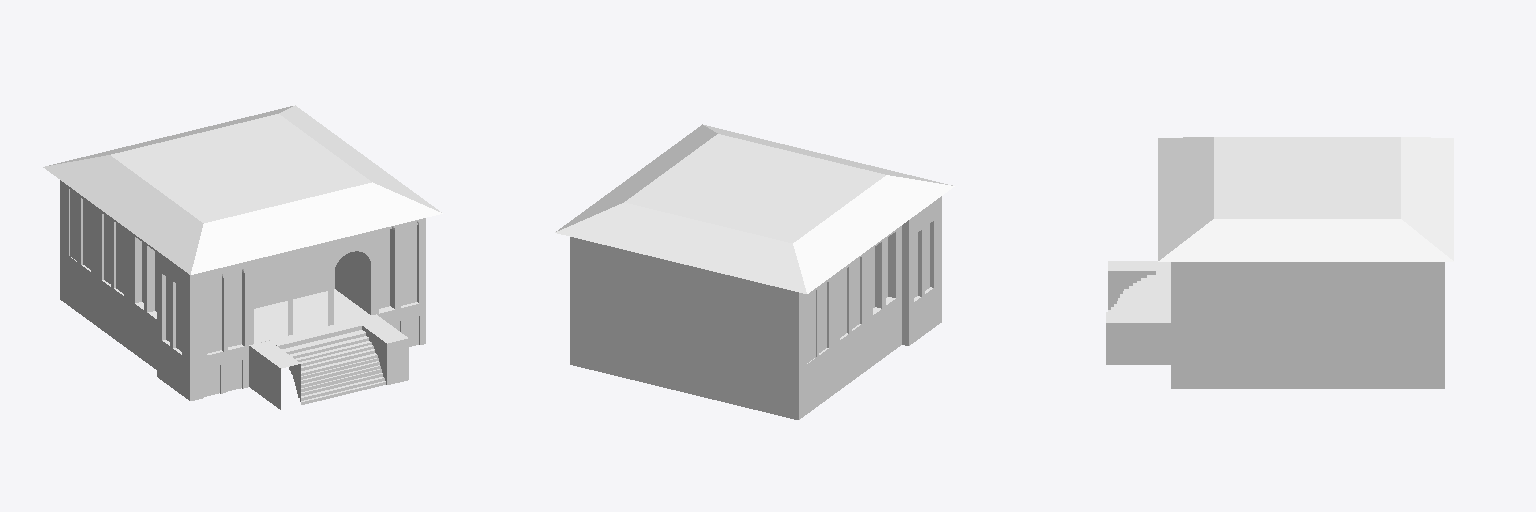
3 views of the same model, side by side, from view 1: azimuth 30°, elevation 25°; view 2: azimuth 150°, elevation 25°; view 3: azimuth 270°, elevation 25° (orthographic).
Parts seen in each view (by area): view 1: SketchUp_ID204.002, SketchUp.010_ID266.001, SketchUp.009_ID260.002, SketchUp.002_ID218.001, SketchUp.004_ID230.001, SketchUp.003_ID224.002, SketchUp.001_ID212.003; view 2: SketchUp_ID204.002, SketchUp.010_ID266.001, SketchUp.009_ID260.002, SketchUp.002_ID218.001, SketchUp.001_ID212.003, SketchUp.004_ID230.001, SketchUp.003_ID224.002; view 3: SketchUp_ID204.002.
Part boxes in pixels (x1,y1,x2,y2): SketchUp_ID204.002: (43, 105, 442, 409); SketchUp.010_ID266.001: (114, 222, 123, 295); SketchUp.009_ID260.002: (147, 246, 156, 318); SketchUp.002_ID218.001: (81, 198, 90, 271); SketchUp.004_ID230.001: (102, 214, 110, 286); SketchUp.003_ID224.002: (135, 237, 143, 309); SketchUp.001_ID212.003: (69, 189, 77, 261); SketchUp_ID204.002: (555, 124, 954, 419); SketchUp.010_ID266.001: (852, 257, 861, 330); SketchUp.009_ID260.002: (886, 232, 895, 304); SketchUp.002_ID218.001: (819, 282, 828, 354); SketchUp.001_ID212.003: (807, 290, 816, 363); SketchUp.004_ID230.001: (840, 267, 848, 339); SketchUp.003_ID224.002: (873, 242, 881, 314); SketchUp_ID204.002: (1106, 137, 1453, 388).
Bounding box in the file's own units: 6.54 × 3.84 × 7.8.